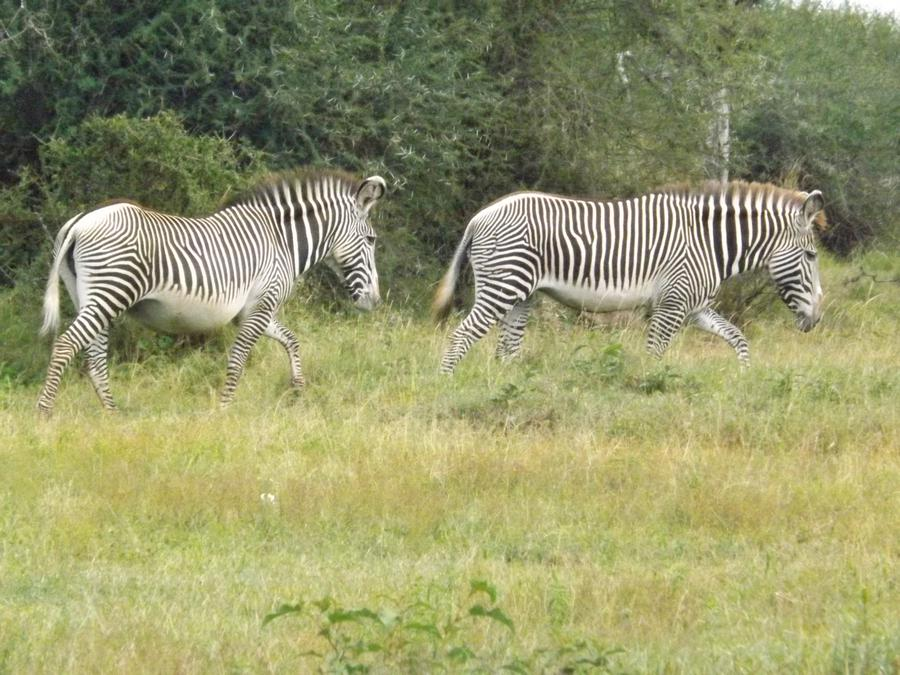zebra_grevys: (467, 197, 718, 299), (66, 197, 284, 306)
